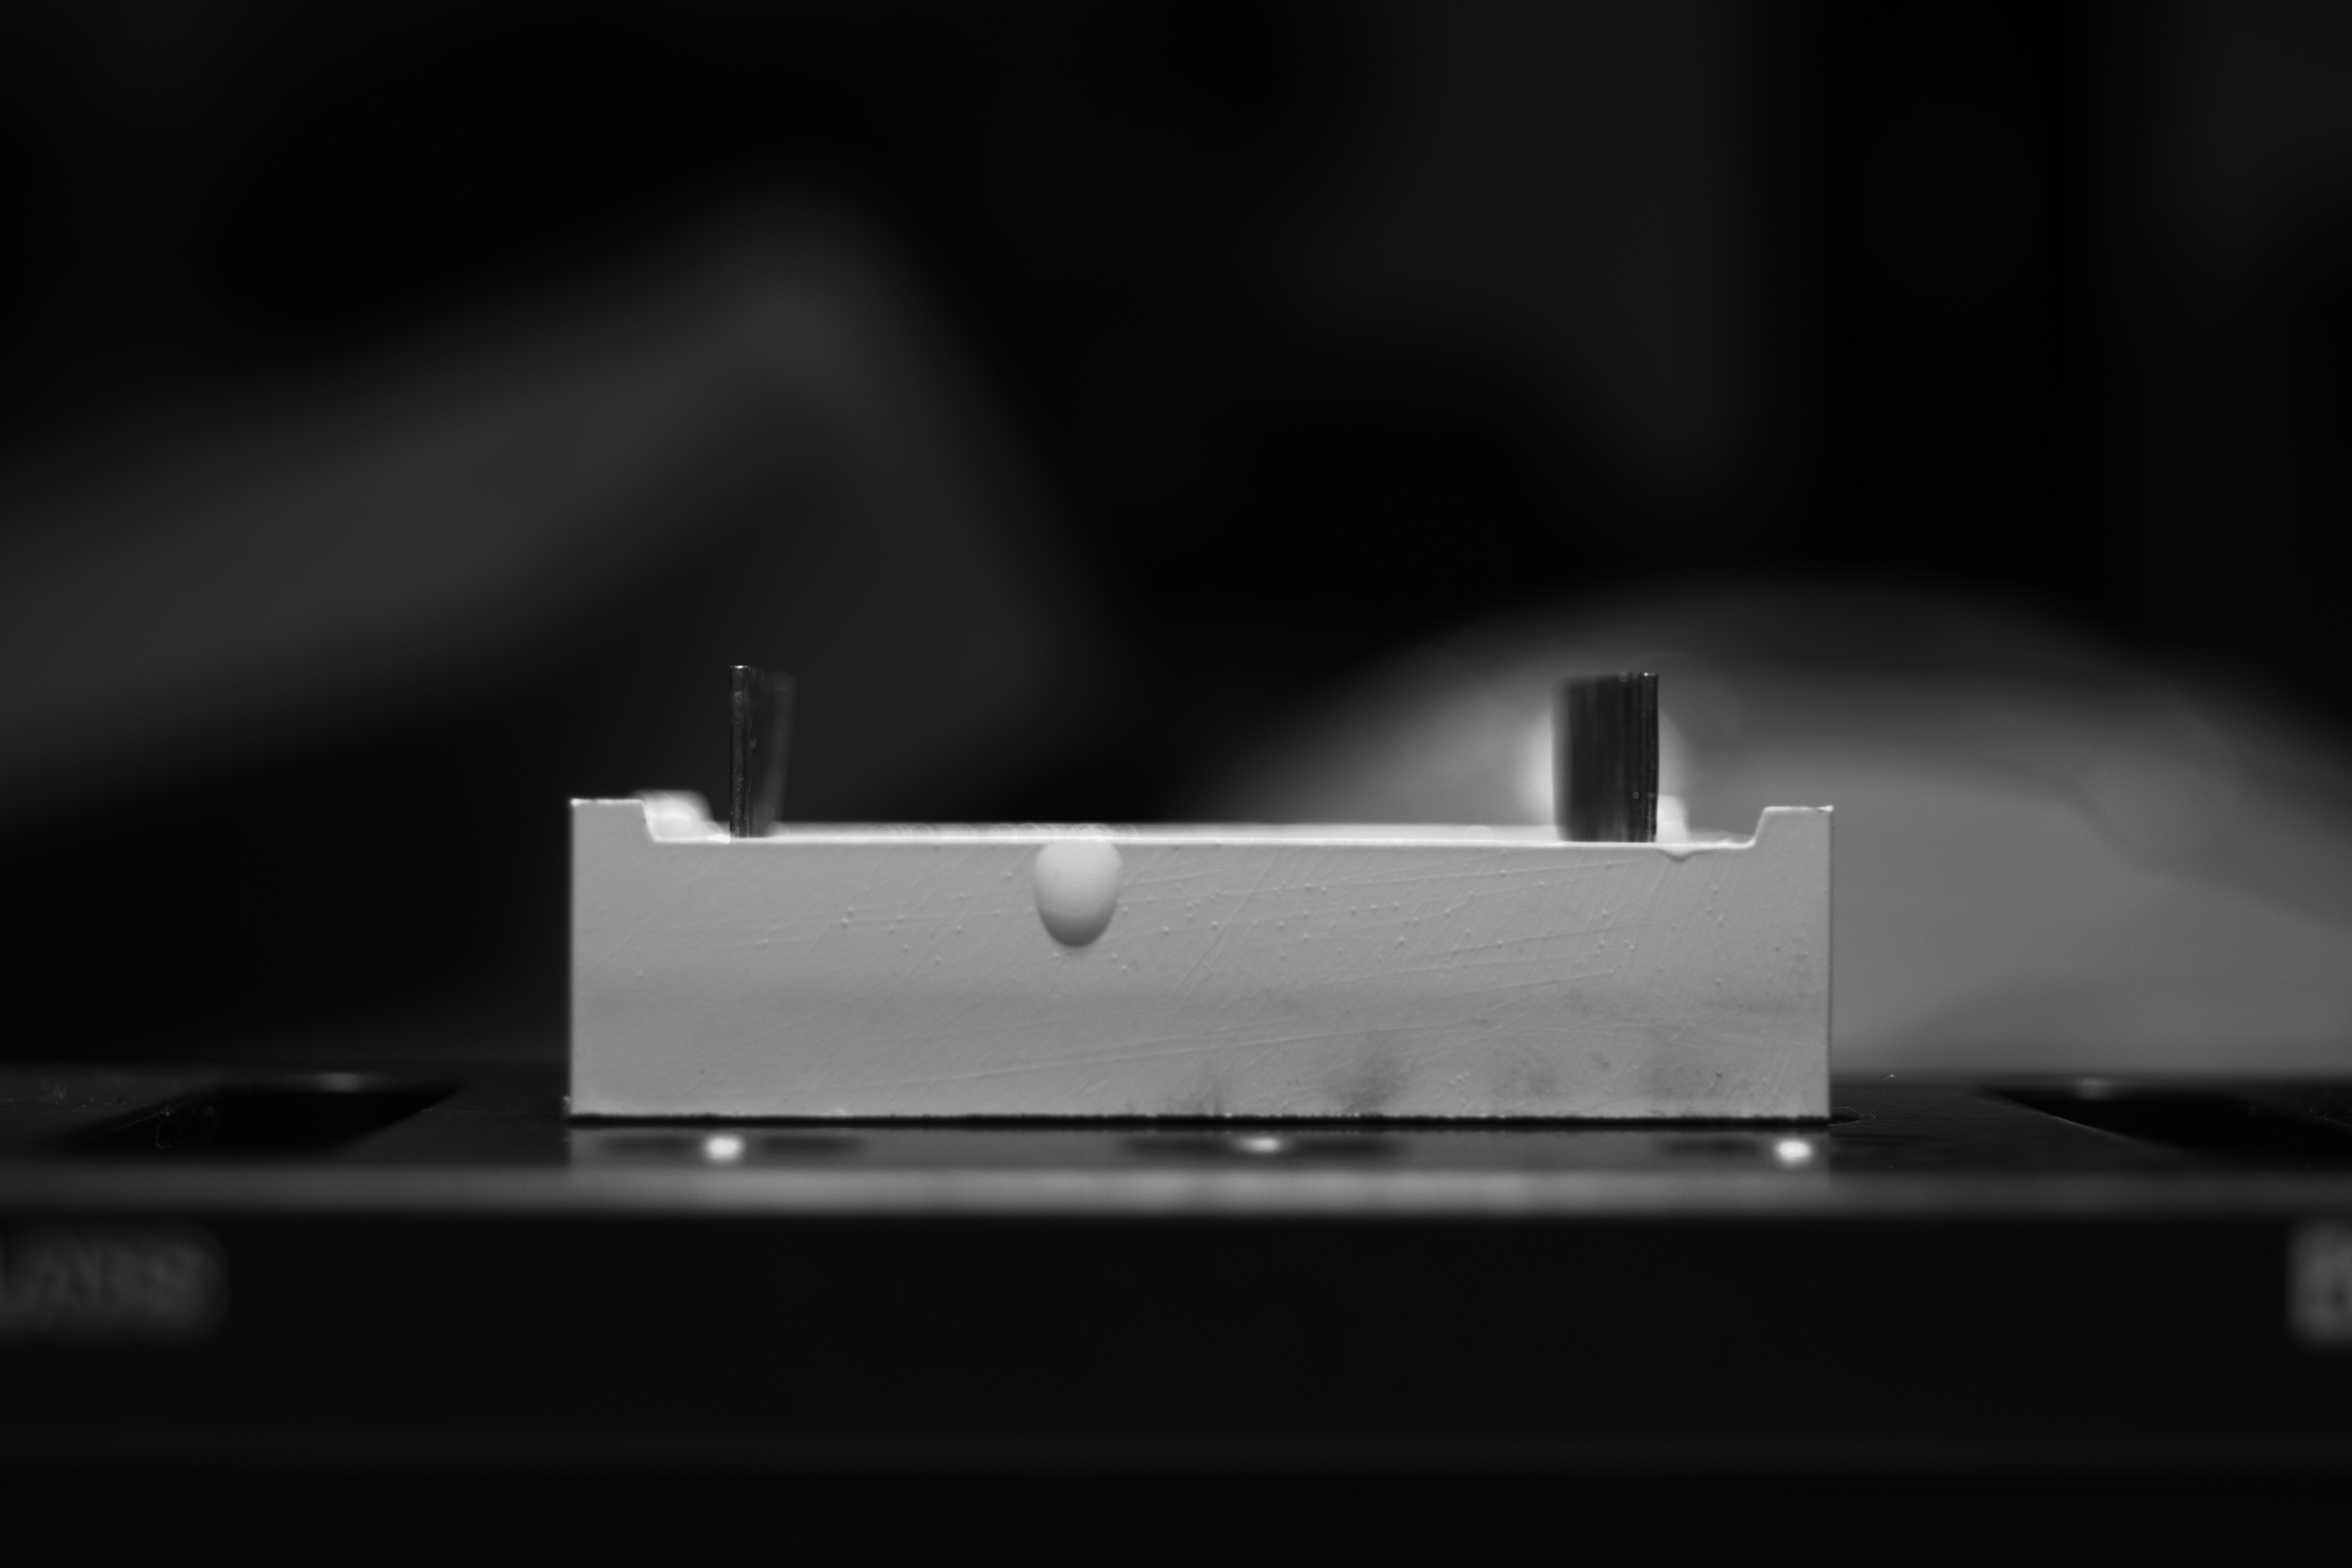glue: (1020, 840, 1136, 950)
